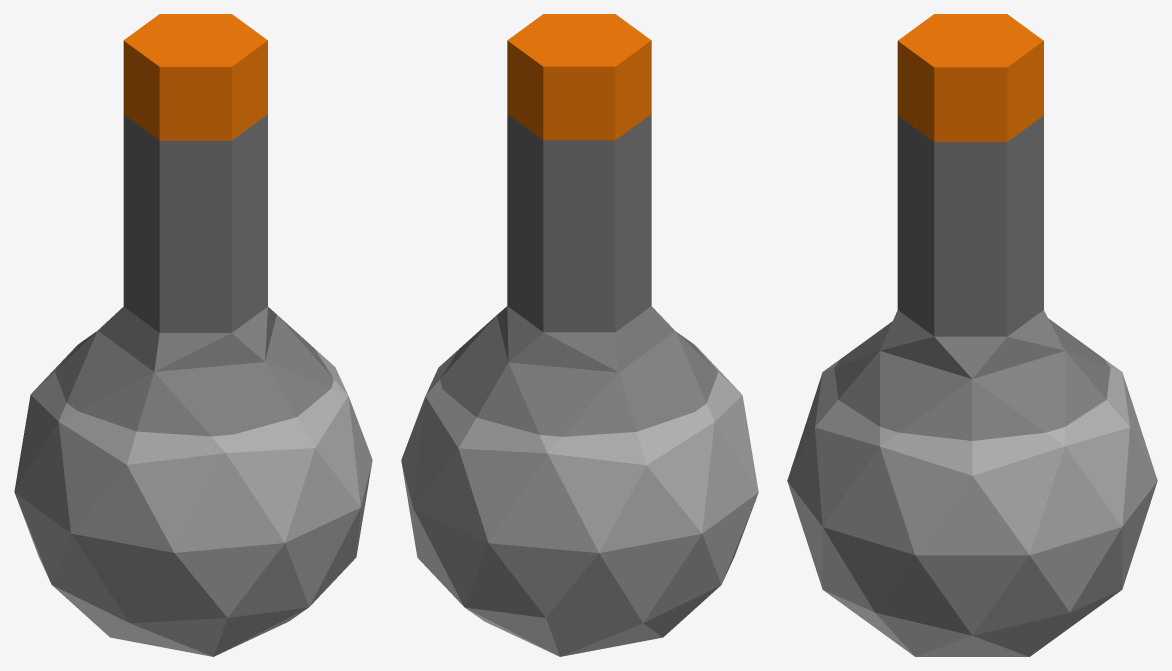
The model's file is potions_340x08.gltf.
3 renders of one model, left to right at view 1: azimuth 30°, elevation 25°; view 2: azimuth 150°, elevation 25°; view 3: azimuth 270°, elevation 25°, orthographic.
Parts seen in each view (by area): view 1: potions_340x08; view 2: potions_340x08; view 3: potions_340x08.
Boxes of the visible parts, bbox=[...] form: potions_340x08: bbox=[14, 14, 372, 656]; potions_340x08: bbox=[401, 14, 758, 656]; potions_340x08: bbox=[787, 14, 1157, 656].
Size of the model in its own units: 0.497 by 0.9473 by 0.5225.
2 materials, 2 textured.
